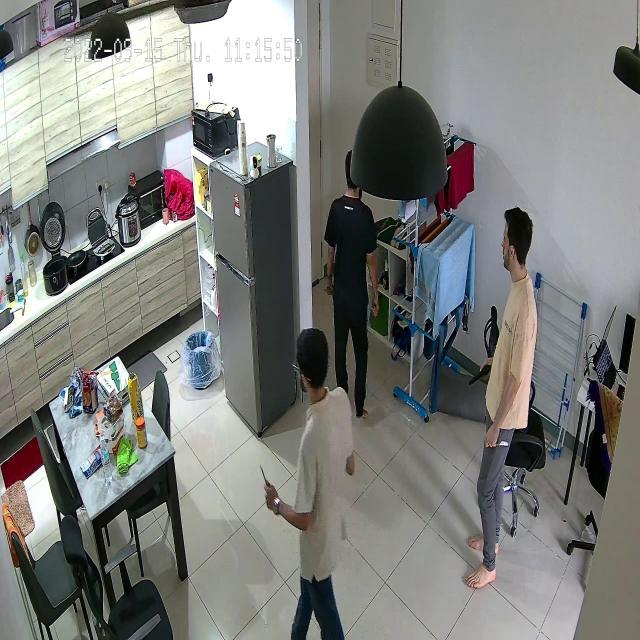Knife: (252, 458, 278, 499)
